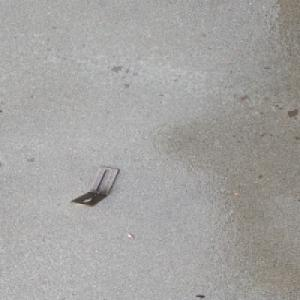MetalPart: (69, 166, 119, 206)
